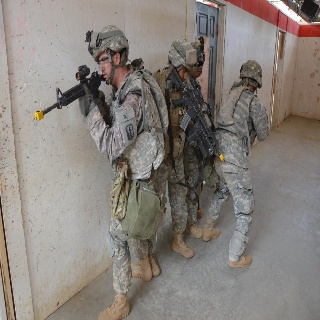rifle: (165, 66, 224, 162), (32, 64, 110, 124)
